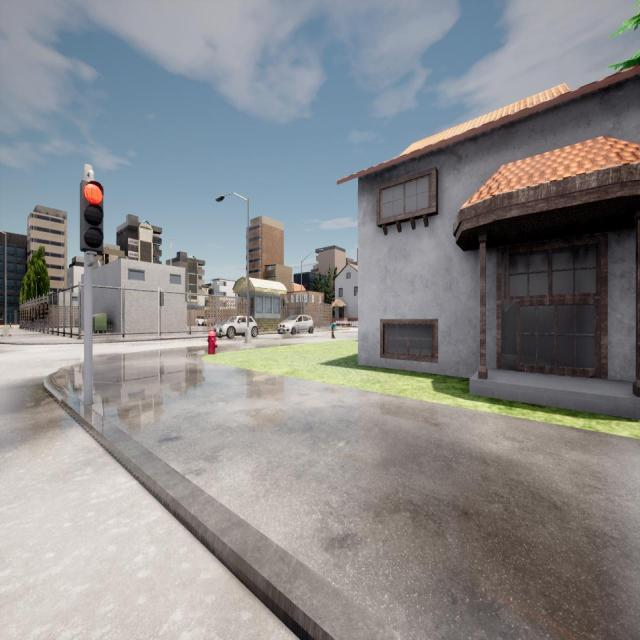Pedestrian: (331, 318, 336, 339)
Vehicle: (214, 316, 258, 337), (277, 314, 314, 334), (196, 315, 208, 327)
traffic_light: (81, 180, 103, 248), (160, 292, 164, 306)
